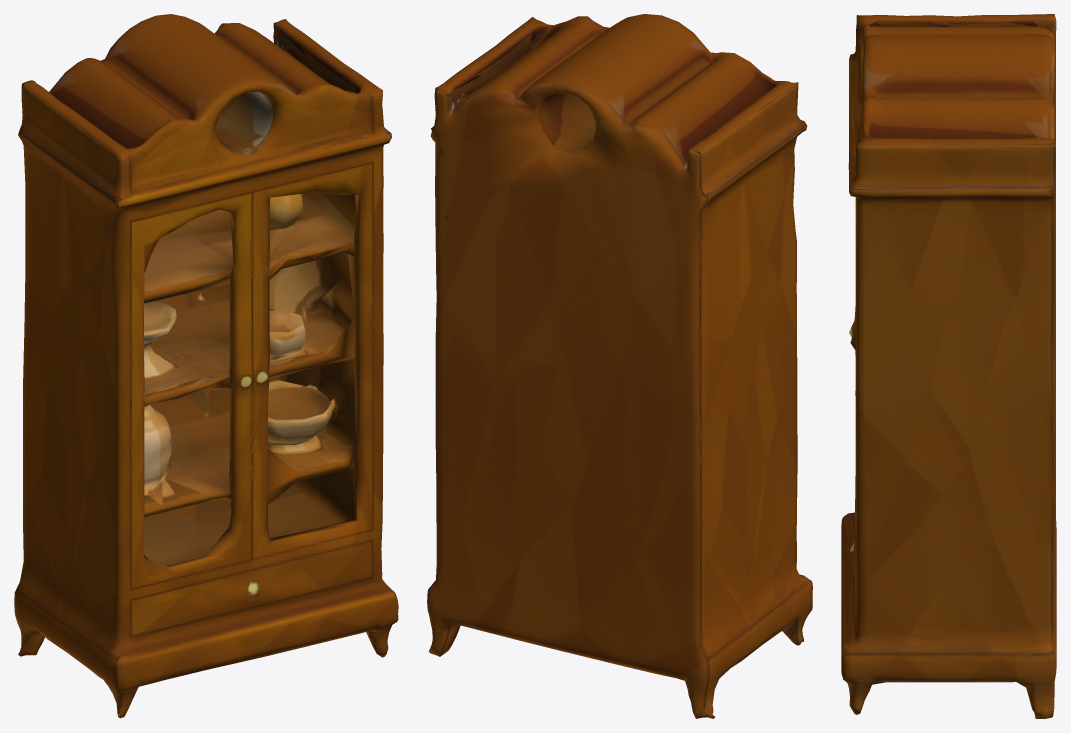
The model's file is Kabinet 1.glb.
3 views of the same model, side by side, from view 1: azimuth 30°, elevation 25°; view 2: azimuth 150°, elevation 25°; view 3: azimuth 270°, elevation 25° (orthographic).
Size of the model in its own units: 0.9355 by 1.91 by 0.6106.
1 material, 1 textured.
